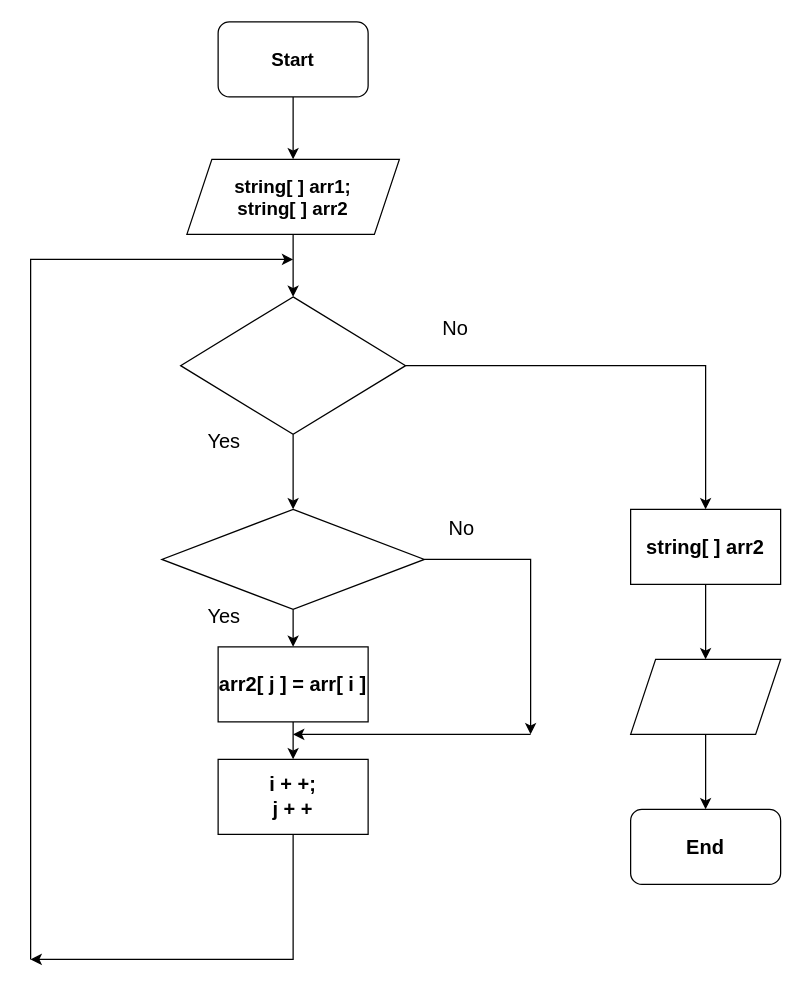
This 803x991 diagram has some shape labels left out. Here are the shapes that lost their labels. From the top down, the centre of each, then its label:
the point at 292,365: i = 0; j = 0; i < arr1.Length
the point at 292,558: arr1[ i ].Length < = 3
the point at 705,696: ShowArray
